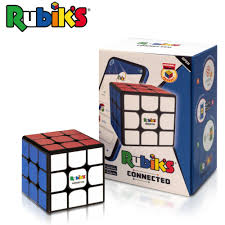cube: (18, 126, 109, 216)
